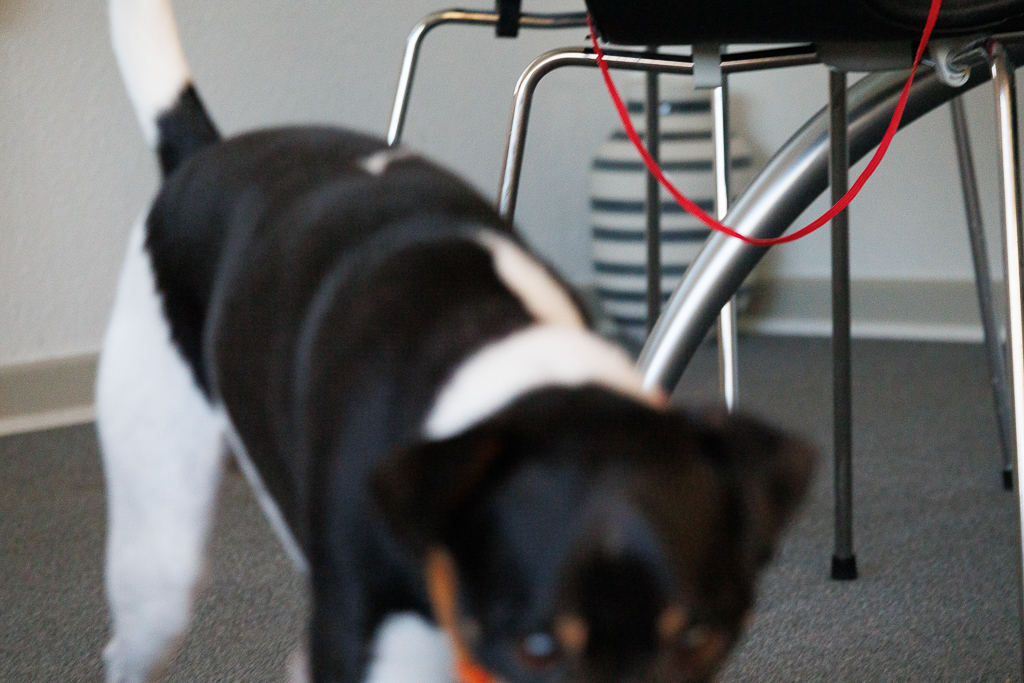Dog: (74, 0, 837, 683)
